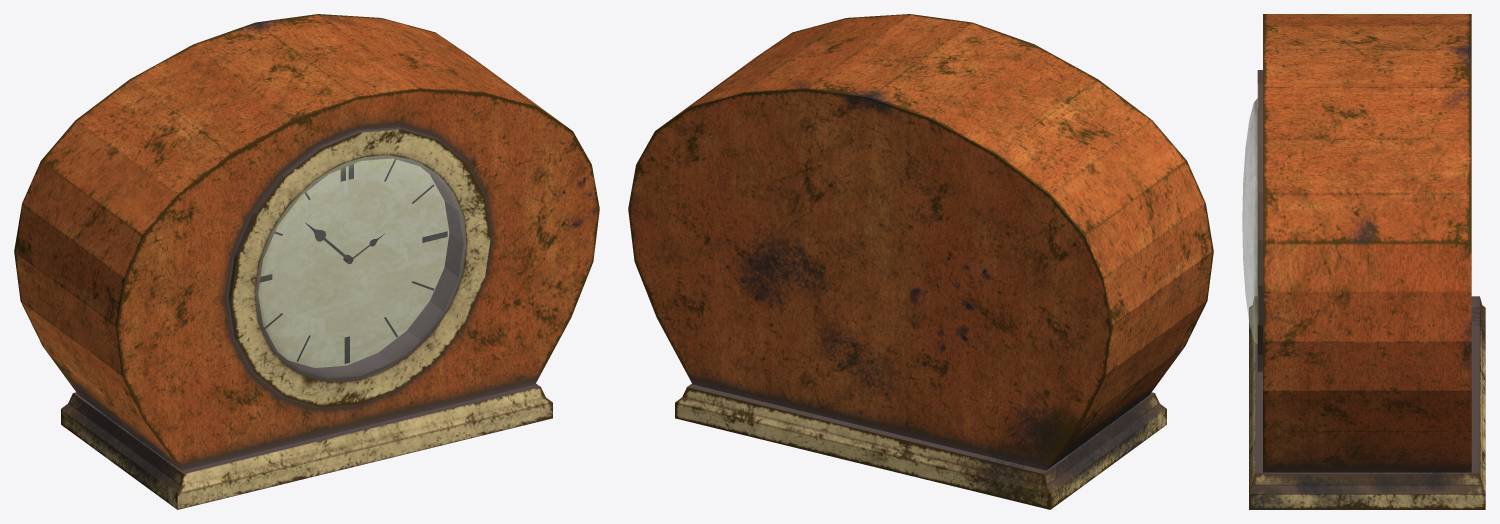
File: atomic_clock.glb
3 renders of one model, left to right at view 1: azimuth 30°, elevation 25°; view 2: azimuth 150°, elevation 25°; view 3: azimuth 270°, elevation 25°, orthographic.
Parts seen in each view (by area): view 1: desk watch_0; view 2: desk watch_0; view 3: desk watch_0.
Boxes of the visible parts, x1=… form: desk watch_0: x1=14, y1=14, x2=599, y2=509; desk watch_0: x1=628, y1=14, x2=1213, y2=509; desk watch_0: x1=1242, y1=14, x2=1485, y2=509.
Size of the model in its own units: 0.3003 by 0.2148 by 0.1291.
1 material, 1 textured.
